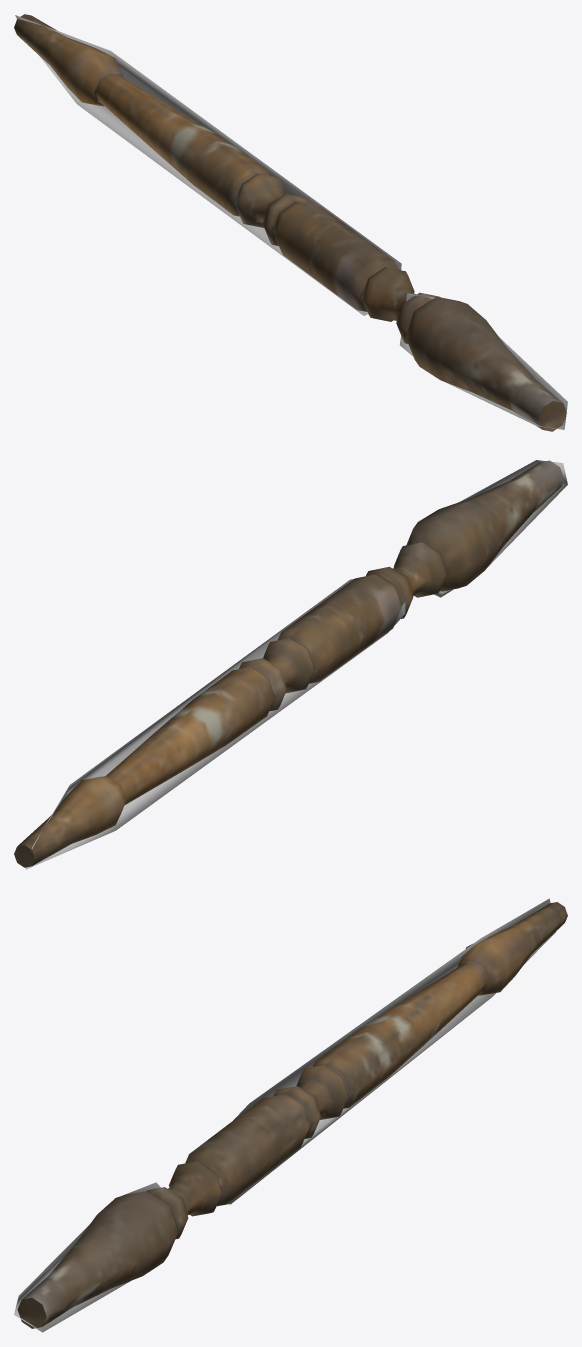
The model's file is SM_Broken_Chair_Pillar.gltf.
The picture shows the model from 3 angles, top to bottom: view 1: azimuth 30°, elevation 25°; view 2: azimuth 150°, elevation 25°; view 3: azimuth 330°, elevation 25°; orthographic projection.
Parts seen in each view (by area): view 1: SM_Broken_Chair_Pillar_LOD0, SM_Broken_Chair_Pillar_ConvexHulls; view 2: SM_Broken_Chair_Pillar_LOD0, SM_Broken_Chair_Pillar_ConvexHulls; view 3: SM_Broken_Chair_Pillar_LOD0, SM_Broken_Chair_Pillar_ConvexHulls.
Part boxes in pixels (left/top/right/bottom): SM_Broken_Chair_Pillar_LOD0: left=14, top=14, right=566, bottom=431; SM_Broken_Chair_Pillar_ConvexHulls: left=15, top=15, right=567, bottom=429; SM_Broken_Chair_Pillar_LOD0: left=14, top=460, right=564, bottom=867; SM_Broken_Chair_Pillar_ConvexHulls: left=25, top=460, right=567, bottom=869; SM_Broken_Chair_Pillar_LOD0: left=17, top=902, right=567, bottom=1328; SM_Broken_Chair_Pillar_ConvexHulls: left=14, top=898, right=556, bottom=1332.
Size of what is drawn, in the model's own units: 0.0538 by 0.0554 by 0.7291.
